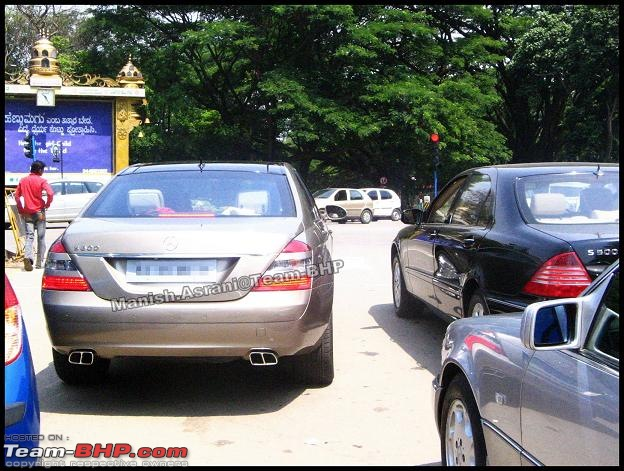car: (40, 161, 340, 392), (385, 158, 624, 343), (429, 257, 624, 471), (309, 184, 376, 228), (361, 184, 403, 221)
person: (15, 158, 55, 266)
